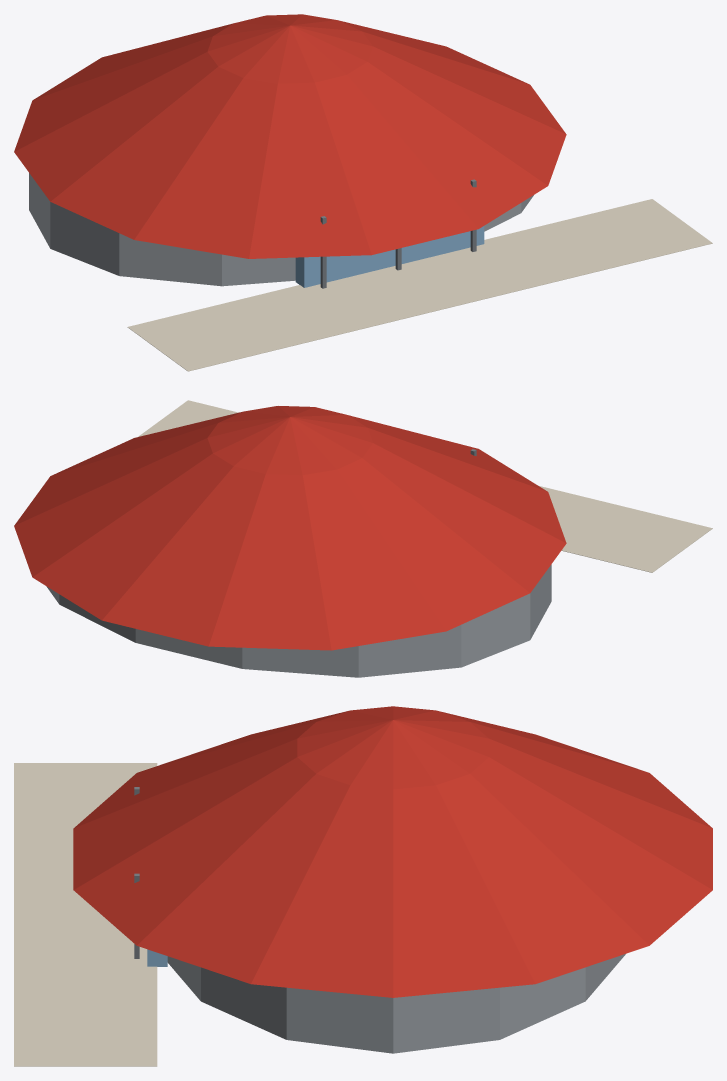
The model's file is salle_concert.glb.
3 renders of one model, top to bottom at view 1: azimuth 30°, elevation 25°; view 2: azimuth 150°, elevation 25°; view 3: azimuth 270°, elevation 25°, orthographic. The views are drawn at different scales.
Visible parts, largest first — view 1: salle_concert; view 2: salle_concert; view 3: salle_concert.
Boxes of the visible parts, x1,y1,x2,y2 form: salle_concert: (14, 14, 712, 371); salle_concert: (14, 400, 712, 677); salle_concert: (14, 706, 712, 1066).
Size of the model in its own units: 70 by 21 by 68.2.
Materials: 1 (1 with a texture image).
